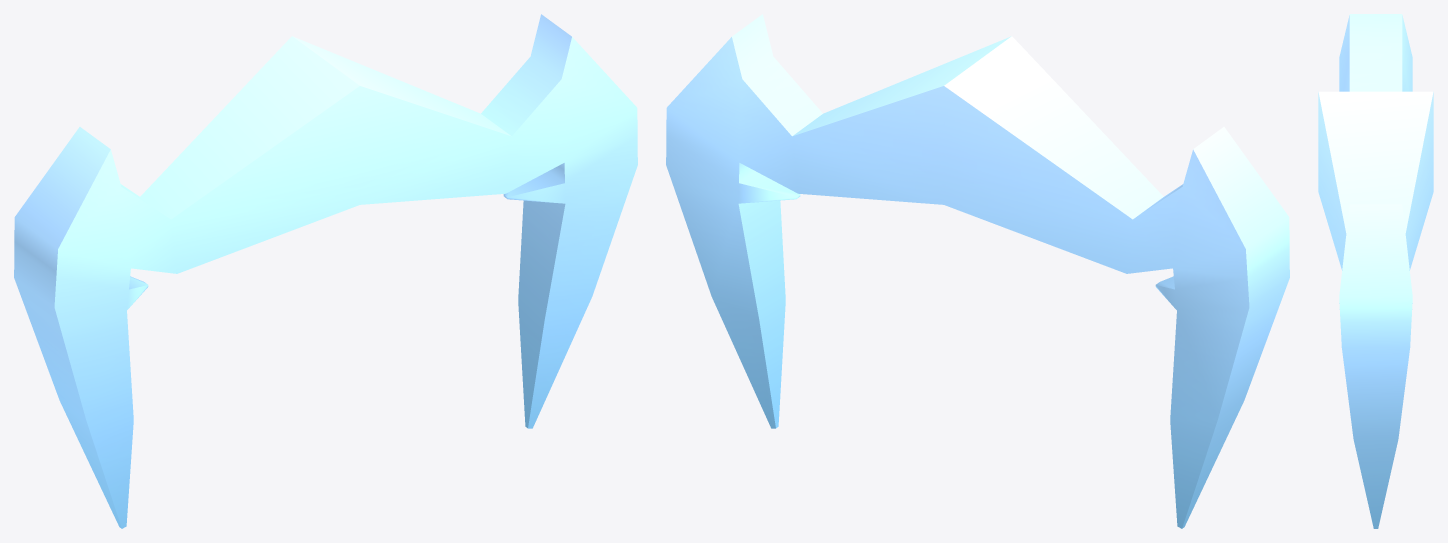
The model's file is steel_guard_052.glb.
3 views of the same model, side by side, from view 1: azimuth 30°, elevation 25°; view 2: azimuth 150°, elevation 25°; view 3: azimuth 270°, elevation 25° (orthographic). The views are drawn at different scales.
Parts seen in each view (by area): view 1: steel_guard_052; view 2: steel_guard_052; view 3: steel_guard_052.
Part boxes in pixels (x1=…): steel_guard_052: x1=14, y1=14, x2=637, y2=528; steel_guard_052: x1=666, y1=14, x2=1289, y2=528; steel_guard_052: x1=1318, y1=14, x2=1433, y2=528.
Size of the model in its own units: 6.32 by 4.31 by 1.28.
Materials: 1 (1 with a texture image).
